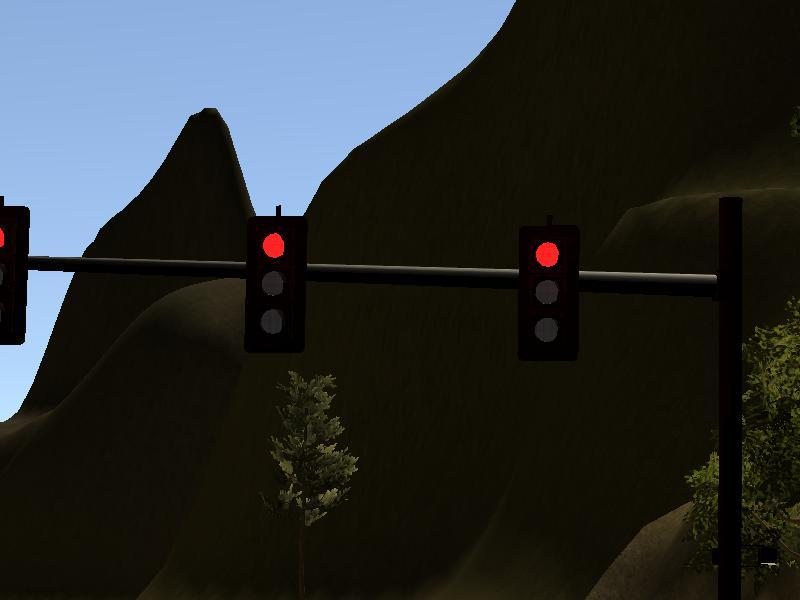Red: (520, 233, 579, 352), (255, 218, 304, 346), (1, 206, 25, 342)
